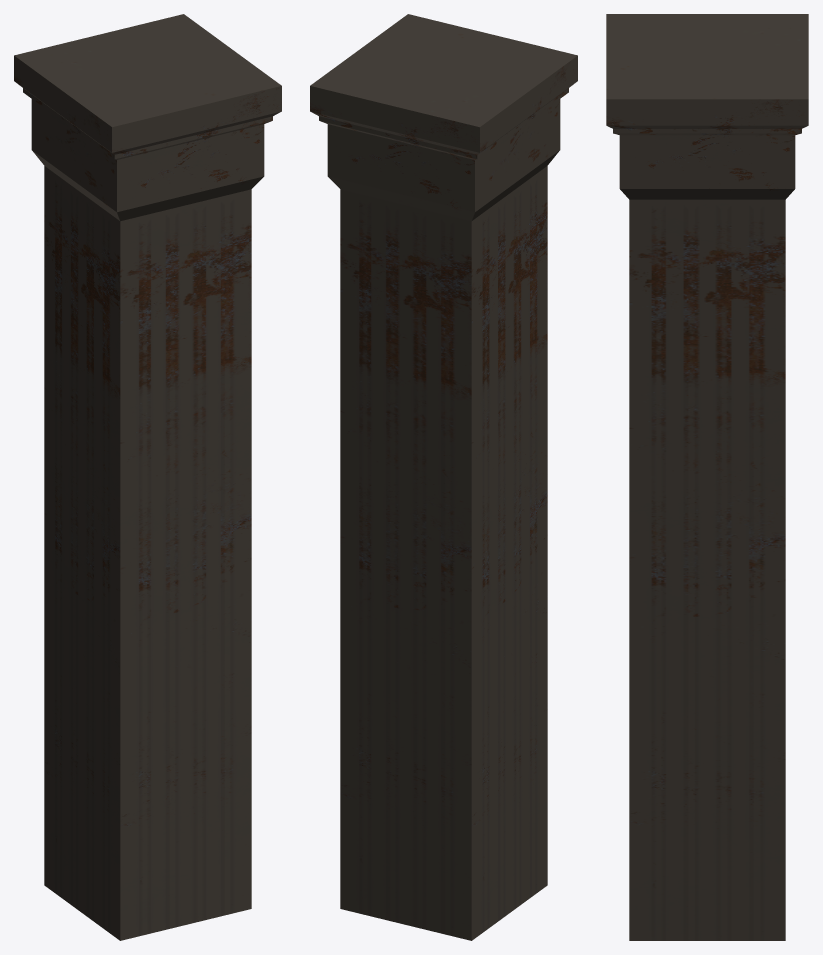
File: Metal_Column_Top.gltf
3 renders of one model, left to right at view 1: azimuth 30°, elevation 25°; view 2: azimuth 150°, elevation 25°; view 3: azimuth 270°, elevation 25°, orthographic. The views are drawn at different scales.
Visible parts, largest first — view 1: Metal_Column_Top; view 2: Metal_Column_Top; view 3: Metal_Column_Top.
Part boxes in pixels (<box>): Metal_Column_Top: <box>14,14,281,940</box>; Metal_Column_Top: <box>310,14,577,940</box>; Metal_Column_Top: <box>606,14,808,940</box>.
Bounding box in the file's own units: 0.6442 × 3 × 0.6445.
Materials: 1 (1 with a texture image).
